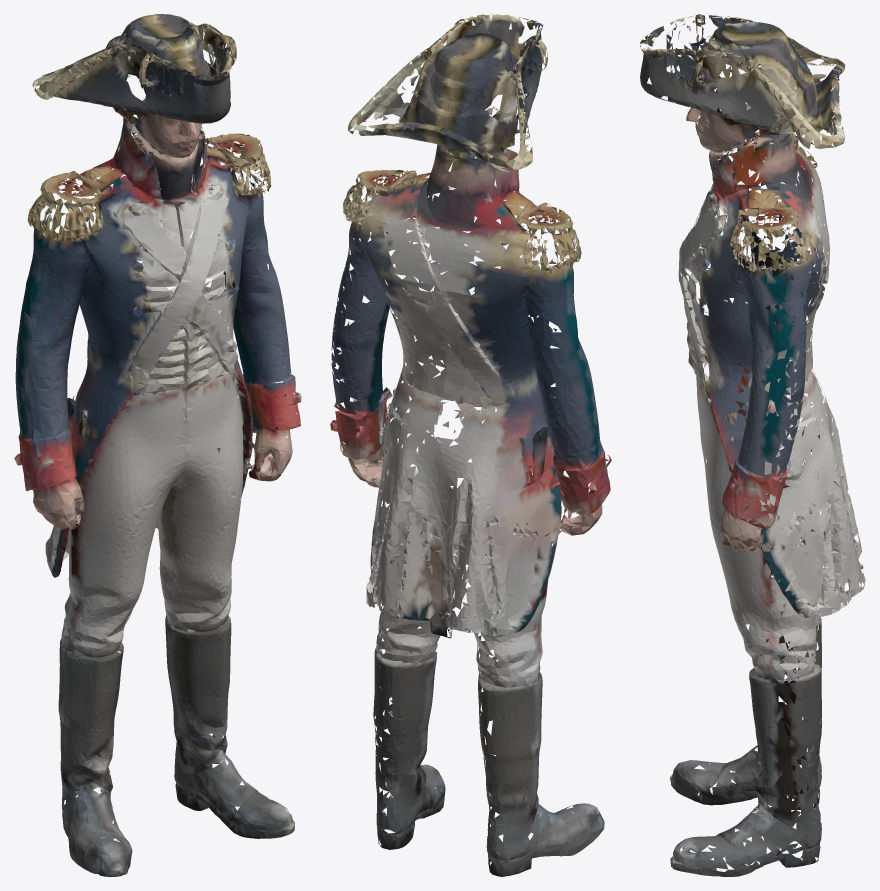
File: napoleon.glb
3 renders of one model, left to right at view 1: azimuth 30°, elevation 25°; view 2: azimuth 150°, elevation 25°; view 3: azimuth 270°, elevation 25°, orthographic. The views are drawn at different scales.
Bounding box in the file's own units: 0.5917 × 1.69 × 0.4322.
